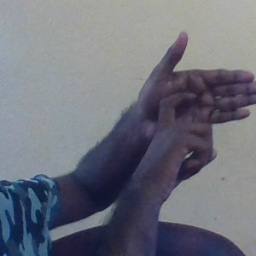R: (122, 28, 256, 182)
